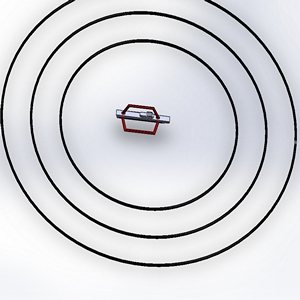circle: (1, 1, 298, 275)
submarine: (109, 96, 179, 146)
